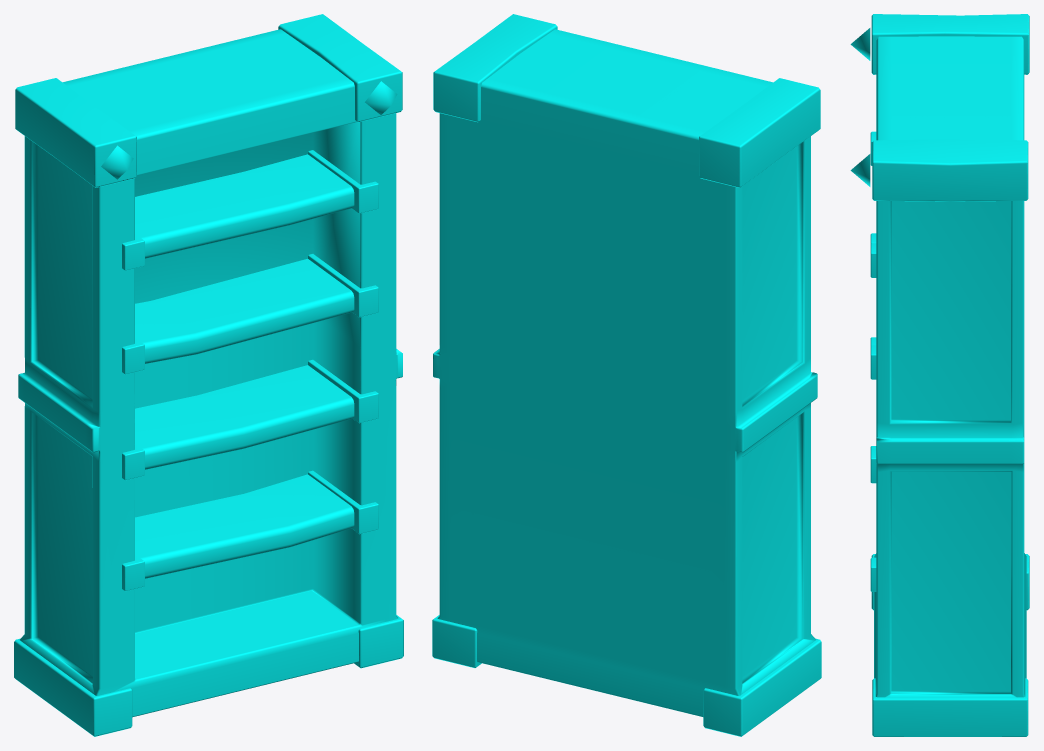
Rendered from Shelf 1.fbx.
3 renders of one model, left to right at view 1: azimuth 30°, elevation 25°; view 2: azimuth 150°, elevation 25°; view 3: azimuth 270°, elevation 25°, orthographic. The views are drawn at different scales.
Visible parts, largest first — view 1: BookShelf1; view 2: BookShelf1; view 3: BookShelf1.
Part boxes in pixels (box(x1,y1,x2,y2)): BookShelf1: box(14, 14, 403, 736); BookShelf1: box(432, 14, 821, 736); BookShelf1: box(850, 14, 1029, 736).
Size of the model in its own units: 8.37 by 15.16 by 4.24.
